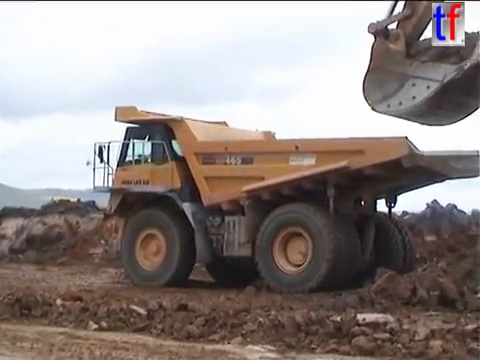excavator: (358, 1, 480, 130)
truck: (84, 102, 480, 298)
